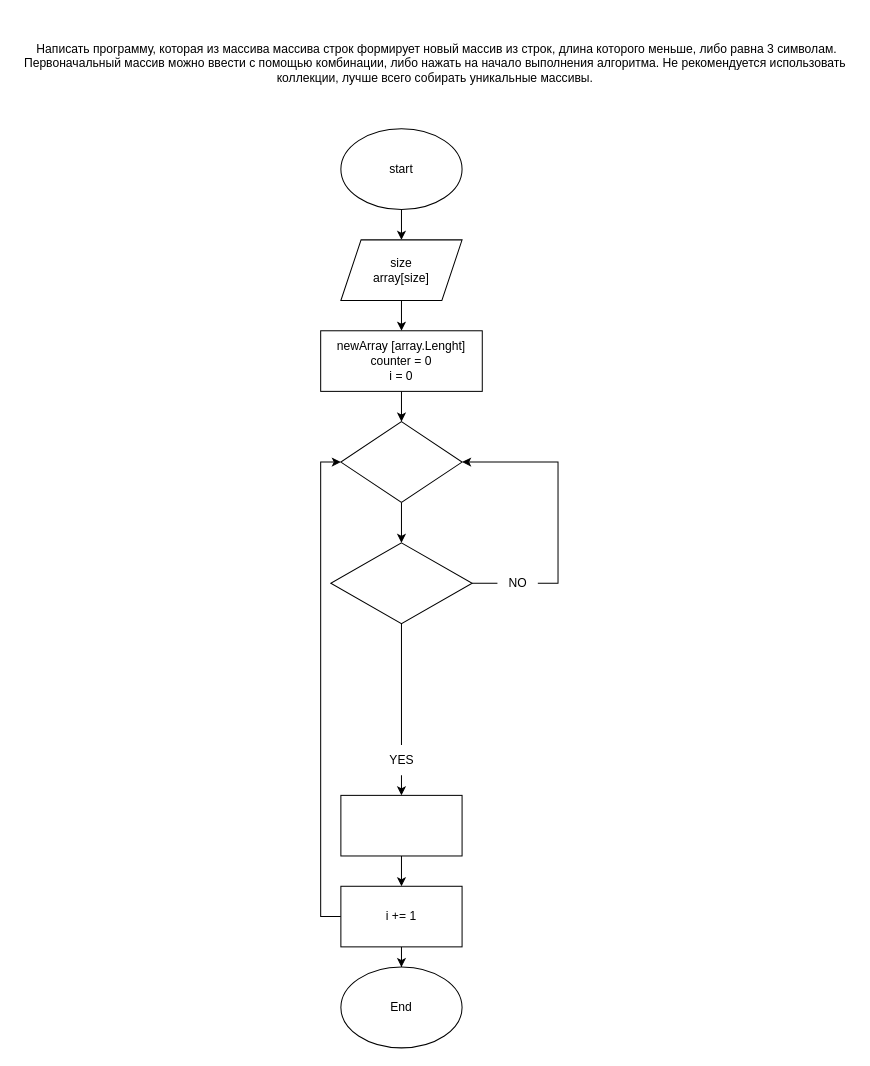
Image size: 870x1066. Some labels were removed from this diagram. The centre of each missing label's shape, as x and y in pixels:
i < array.Lenght: point 401,461
newArray[counter] = array[ i ] conter += 1: point 401,825
аrray[ i ].Lenght <= 3: point 401,583
